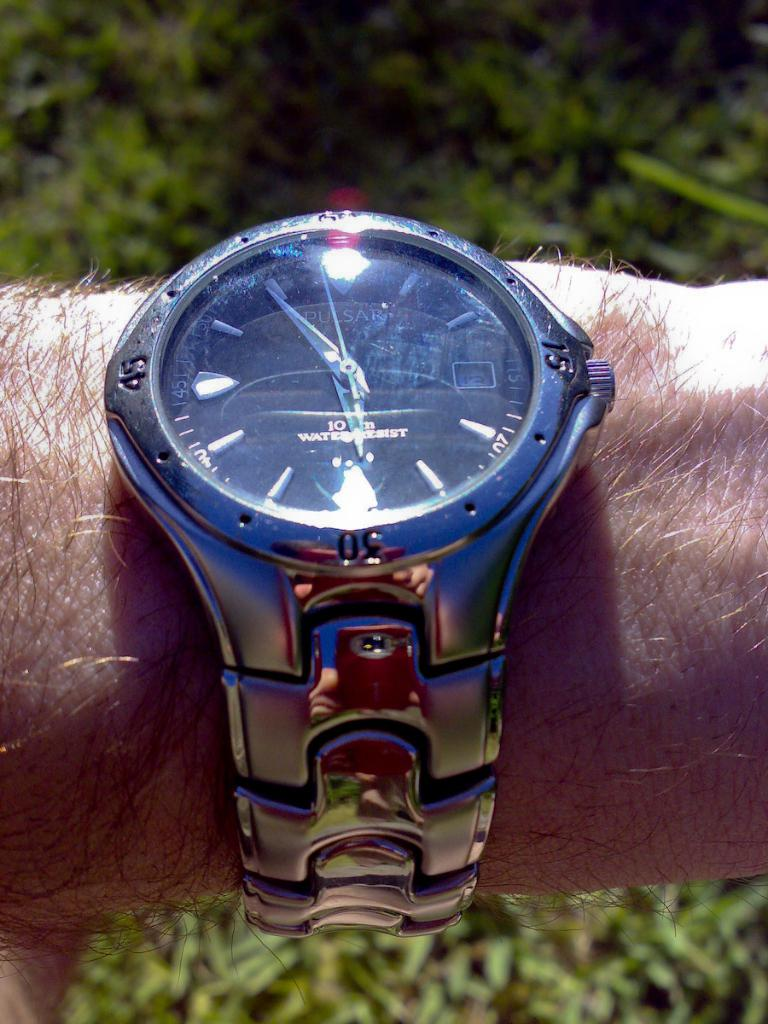watch: (103, 208, 598, 941)
